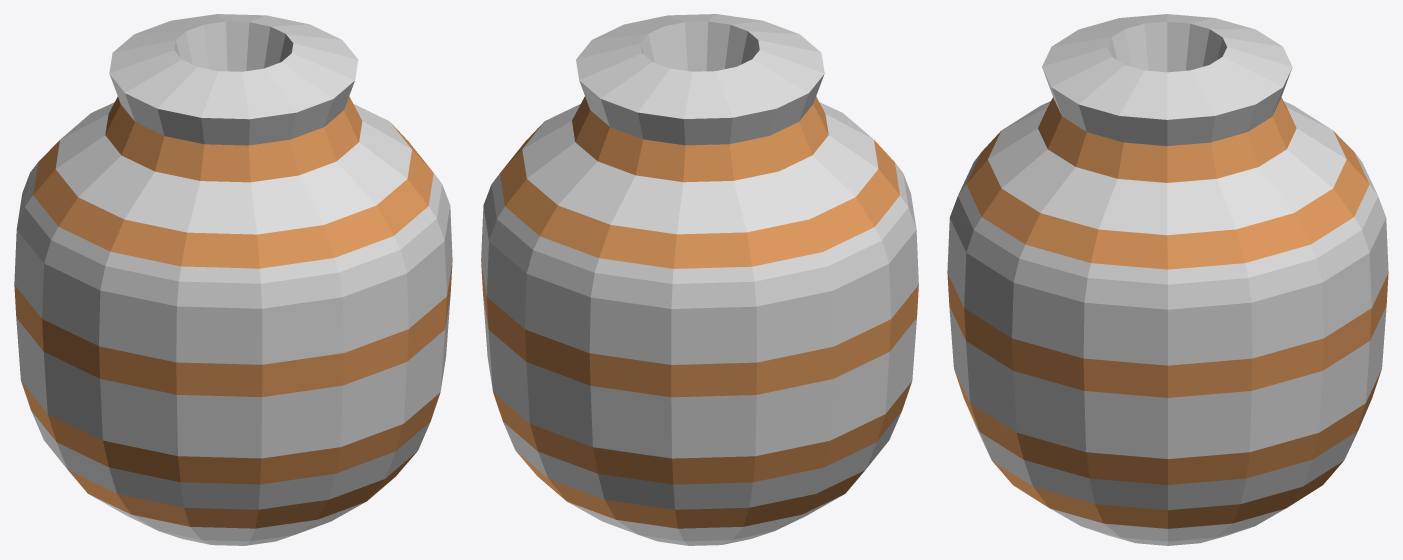
File: vase_2.fbx
3 renders of one model, left to right at view 1: azimuth 30°, elevation 25°; view 2: azimuth 150°, elevation 25°; view 3: azimuth 270°, elevation 25°, orthographic.
Visible parts, largest first — view 1: Cylinder.018; view 2: Cylinder.018; view 3: Cylinder.018.
Part boxes in pixels (left/top/right/bottom): Cylinder.018: left=14, top=14, right=452, bottom=545; Cylinder.018: left=481, top=14, right=918, bottom=545; Cylinder.018: left=947, top=14, right=1388, bottom=545.
Bounding box in the file's own units: 70.31 × 81.45 × 70.31.
